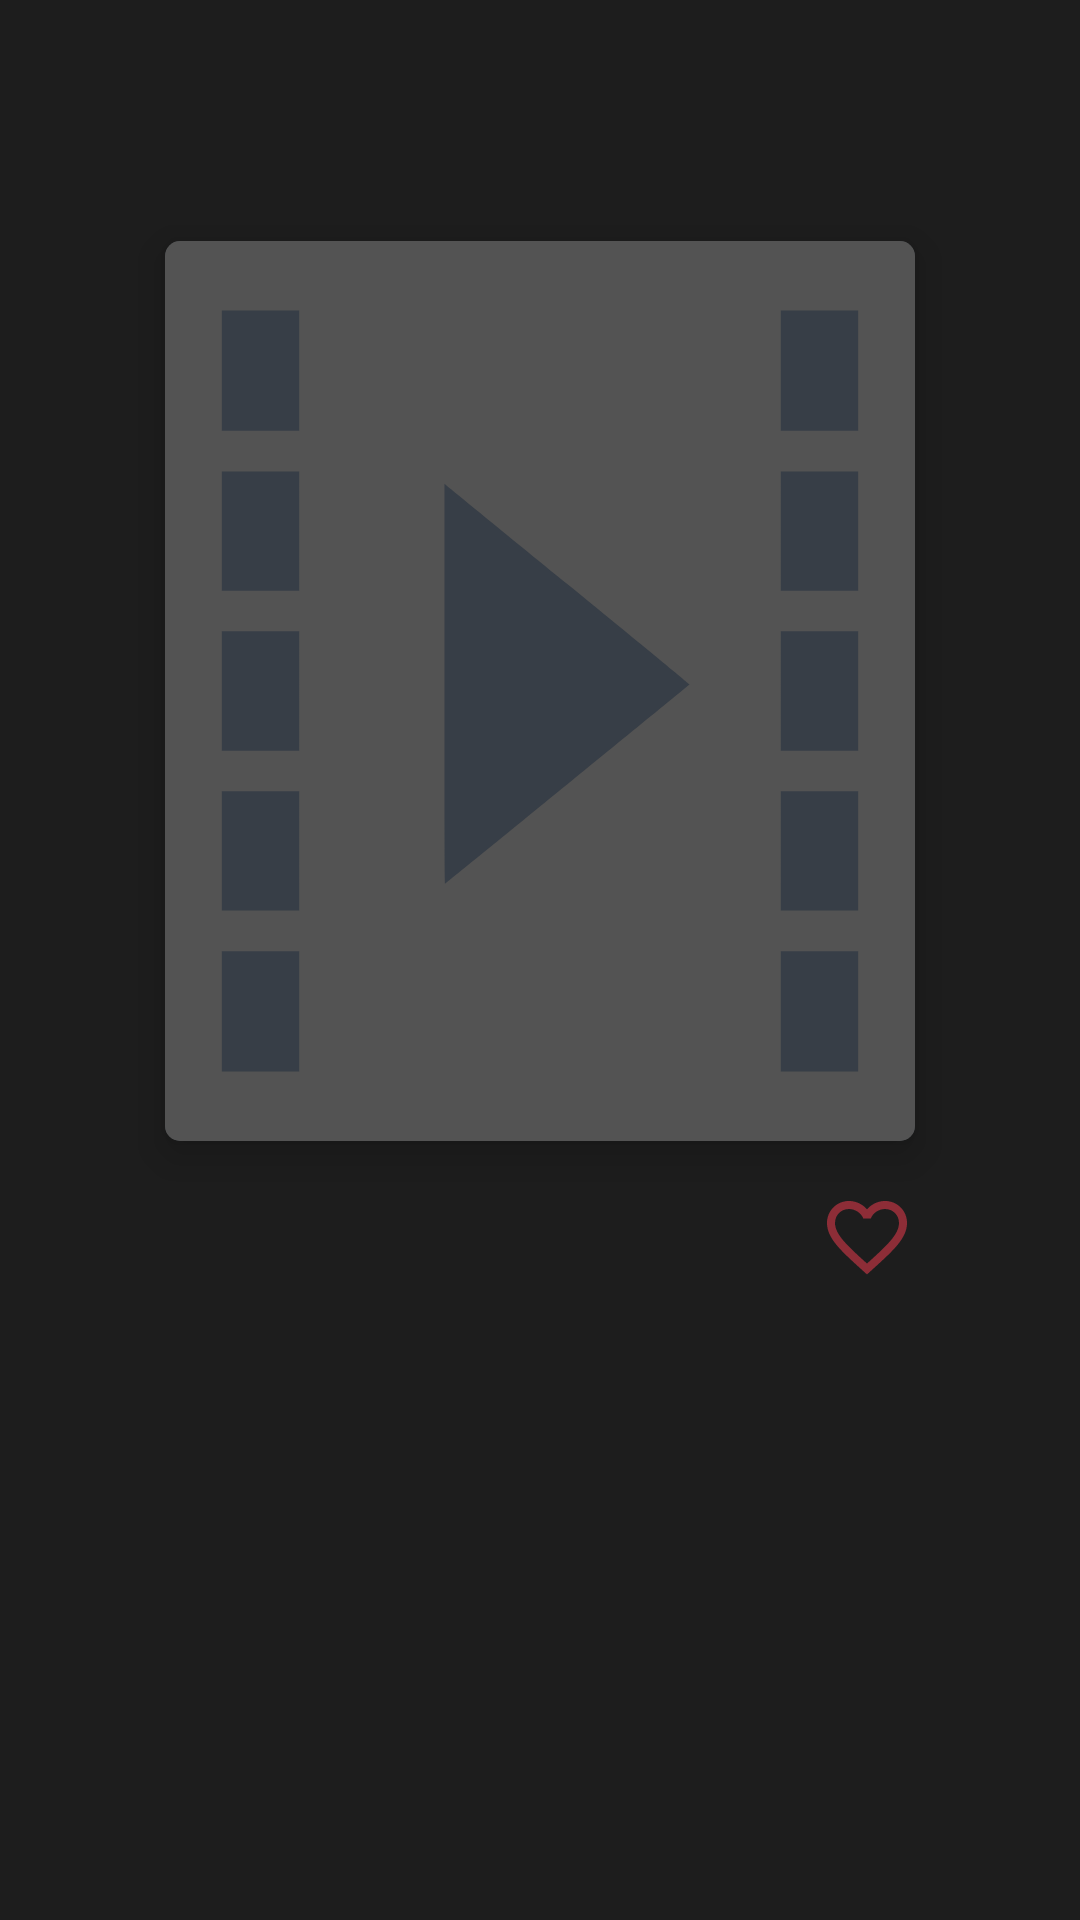

Point at icon controls on the screen. Image size 1080 × 1920, points as point (x, y).
favorite: point (867, 1237)
